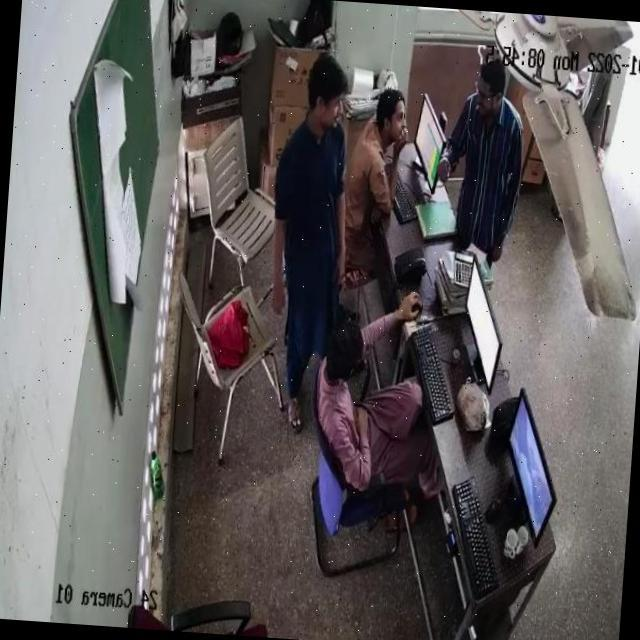person: (264, 54, 348, 418), (313, 320, 439, 495), (452, 56, 524, 250), (344, 82, 409, 238)
